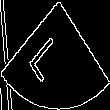L_NE: (34, 26, 76, 84)
